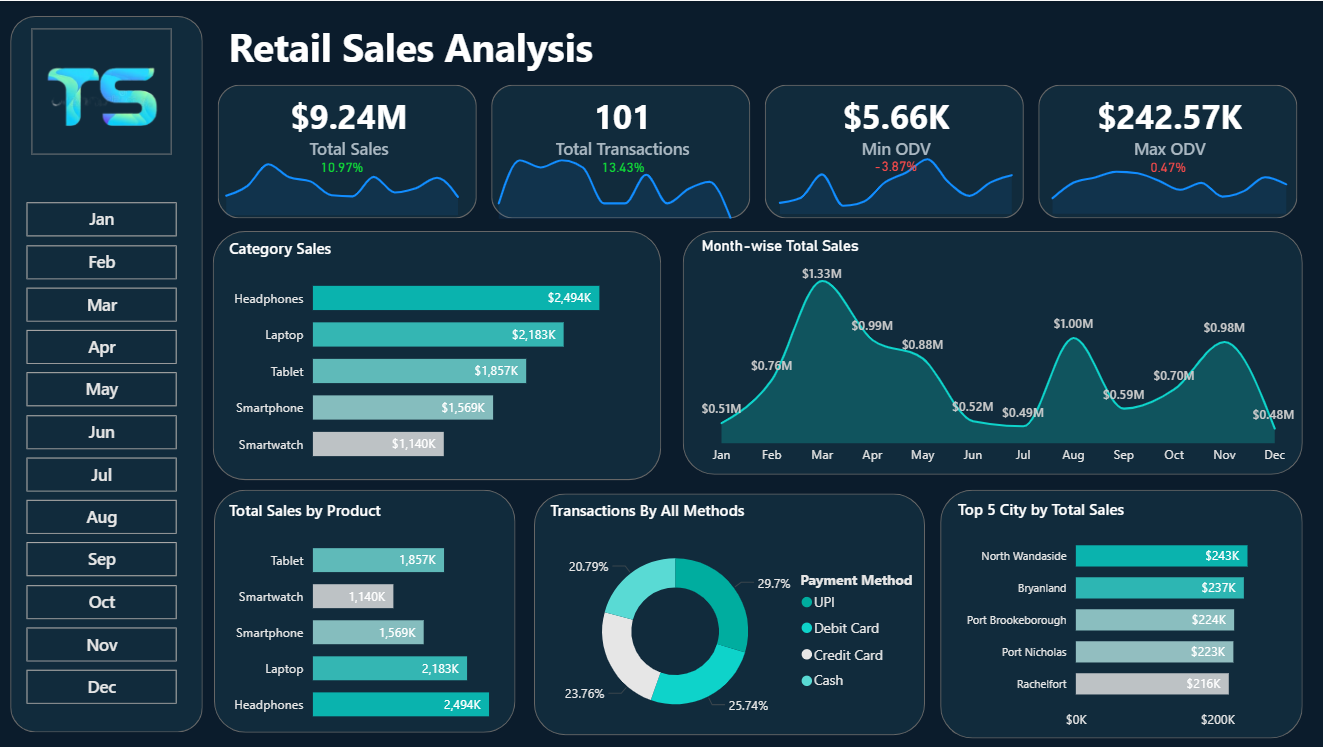

What the dashboard file says about the page in this screenshot:
{"tool":"powerbi","page":{"name":"Overview","canvas":[1280,720],"ordinal":0},"visuals":[{"type":"shape","box":[206.7,222.3,432.8,240.5],"z":0},{"type":"cardVisual","fields":{"Data":["Dataset.TOTAL_SALES","Dataset.Total Transactions","Dataset.Min ODV","Dataset.Max ODV"]},"box":[206.3,80.8,1052,129.1],"z":1000},{"type":"stackedAreaChart","fields":{"Category":["Dataset.Date.Variation.Date Hierarchy.Month"],"Y":["Dataset.Total Transactions"]},"box":[469.3,140,250,75.5],"z":2000},{"type":"stackedAreaChart","fields":{"Category":["Dataset.Date.Variation.Date Hierarchy.Month"],"Y":["Dataset.Min ODV"]},"box":[740.9,136.2,250,75.4],"z":3000},{"type":"stackedAreaChart","fields":{"Category":["Dataset.Date.Variation.Date Hierarchy.Month"],"Y":["Dataset.Max ODV"]},"box":[1003.4,134.9,252.2,75.4],"z":4000},{"type":"card","fields":{"Values":["Dataset.Max Odv growth%"]},"box":[1070.1,145.2,117,21.7],"z":5000},{"type":"card","fields":{"Values":["Dataset.Min Odv growth%"]},"box":[807.1,144.6,117,22.9],"z":6000},{"type":"stackedAreaChart","fields":{"Category":["Dataset.Date.Variation.Date Hierarchy.Month"],"Y":["Dataset.TOTAL SALES"]},"box":[206.7,137.5,250,75.4],"z":7000},{"type":"shape","box":[10.4,14.3,185.9,691.5],"z":8000},{"type":"clusteredBarChart","title":"Category Sales","fields":{"Category":["Dataset.Product"],"Y":["Dataset.TOTAL SALES"]},"box":[217.2,228,422.3,226.8],"z":9000},{"type":"shape","box":[207.2,472,290.9,234.6],"z":10000},{"type":"shape","box":[659.9,222,598.4,235.3],"z":11000},{"type":"shape","box":[516,474.8,377.4,233.3],"z":12000},{"type":"shape","box":[908.4,472,349.9,240.1],"z":13000},{"type":"donutChart","title":"Transactions By All Methods","fields":{"Category":["Dataset.Payment Method"],"Y":["Dataset.Total Transactions"]},"box":[527.2,481.4,369.2,229.2],"z":14000},{"type":"clusteredBarChart","title":"Total Sales by Product","fields":{"Category":["Dataset.Product"],"Y":["Dataset.TOTAL SALES"]},"box":[217.2,481.4,314.9,224.4],"z":15000},{"type":"areaChart","title":"Month-wise Total Sales","fields":{"Y":["Dataset.TOTAL SALES"],"Category":["Dataset.MONTH"]},"box":[673.2,228,582.7,228],"z":16000},{"type":"card","fields":{"Values":["Dataset.Transactions Growth%"]},"box":[544.1,145.2,117,21.7],"z":17000},{"type":"card","fields":{"Values":["Dataset.Sales Growth%"]},"box":[272.7,145.2,117,21.7],"z":18000},{"type":"advancedSlicerVisual","fields":{"Values":["Dataset.MONTH"]},"box":[22,189.4,155.1,495.4],"z":19000},{"type":"textbox","box":[206.3,14.5,687.7,63.9],"z":20000},{"type":"clusteredBarChart","title":"Top 5 City by Total Sales","fields":{"Category":["Dataset.City"],"Y":["Dataset.TOTAL SALES"]},"box":[920.5,480.2,359.5,226.8],"z":21000},{"type":"image","box":[31.4,26.5,135.1,121.9],"z":22000}]}

Visuals, with their boxes in screenshot pixels (x1, y1, x2, y2), scaled from the page's 1280x720 canvas onto the 1323x747 screenshot:
shape: box(214, 231, 661, 480)
cardVisual - Dataset.TOTAL_SALES x Dataset.Total Transactions: box(213, 84, 1301, 218)
stackedAreaChart - Dataset.Date.Variation.Date Hierarchy.Month x Dataset.Total Transactions: box(485, 145, 743, 224)
stackedAreaChart - Dataset.Date.Variation.Date Hierarchy.Month x Dataset.Min ODV: box(766, 141, 1024, 220)
stackedAreaChart - Dataset.Date.Variation.Date Hierarchy.Month x Dataset.Max ODV: box(1037, 140, 1298, 218)
card - Dataset.Max Odv growth%: box(1106, 151, 1227, 173)
card - Dataset.Min Odv growth%: box(834, 150, 955, 174)
stackedAreaChart - Dataset.Date.Variation.Date Hierarchy.Month x Dataset.TOTAL SALES: box(214, 143, 472, 221)
shape: box(11, 15, 203, 732)
"Category Sales" clusteredBarChart: box(224, 237, 661, 472)
shape: box(214, 490, 515, 733)
shape: box(682, 230, 1301, 474)
shape: box(533, 493, 923, 735)
shape: box(939, 490, 1301, 739)
"Transactions By All Methods" donutChart: box(545, 499, 927, 737)
"Total Sales by Product" clusteredBarChart: box(224, 499, 550, 732)
"Month-wise Total Sales" areaChart: box(696, 237, 1298, 473)
card - Dataset.Transactions Growth%: box(562, 151, 683, 173)
card - Dataset.Sales Growth%: box(282, 151, 403, 173)
advancedSlicerVisual - Dataset.MONTH: box(23, 197, 183, 710)
textbox: box(213, 15, 924, 81)
"Top 5 City by Total Sales" clusteredBarChart: box(951, 498, 1322, 734)
image: box(32, 27, 172, 154)
